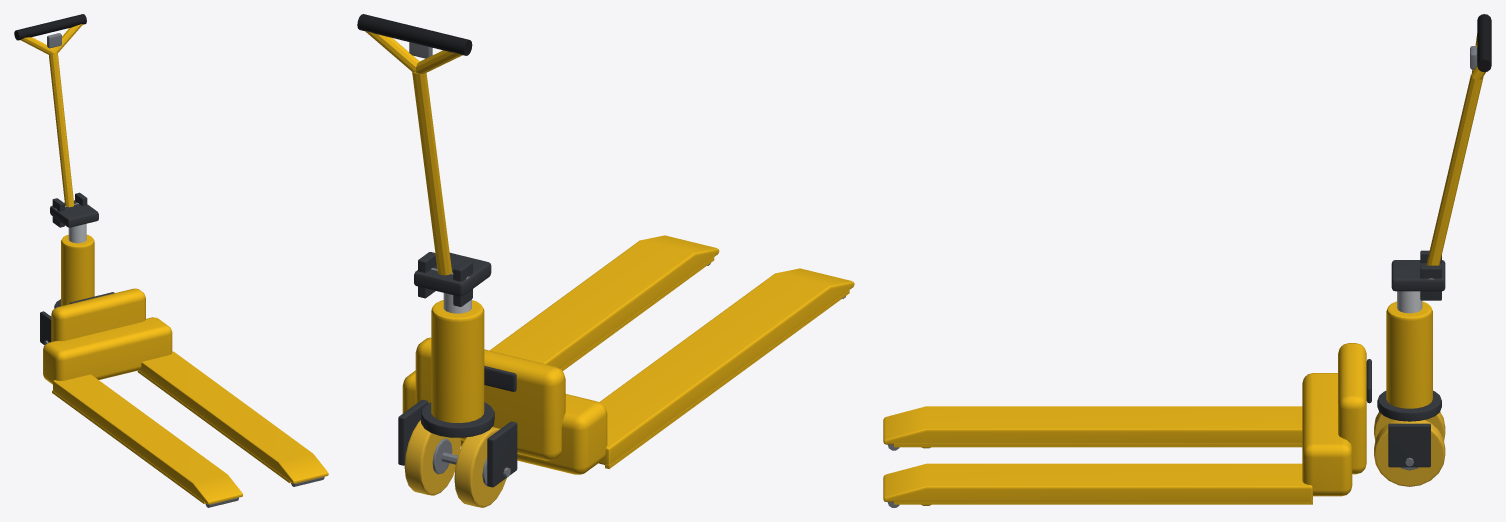
The model's file is pallet_jack.glb.
The picture shows the model from 3 angles, left to right: view 1: azimuth 30°, elevation 25°; view 2: azimuth 150°, elevation 25°; view 3: azimuth 270°, elevation 25°; orthographic projection. The views are drawn at different scales.
Parts seen in each view (by area): view 1: body_geo, tiller_frame_geo, tiller_handle_geo; view 2: body_geo, tiller_frame_geo, tiller_handle_geo, wheel_steer_L_geo, wheel_steer_R_geo; view 3: body_geo, tiller_frame_geo, tiller_handle_geo, wheel_steer_L_geo.
Boxes of the visible parts, left/top/right/bottom form: body_geo: left=43, top=288, right=328, bottom=507; tiller_frame_geo: left=40, top=192, right=98, bottom=345; tiller_handle_geo: left=14, top=14, right=86, bottom=209; body_geo: left=402, top=235, right=854, bottom=474; tiller_frame_geo: left=398, top=252, right=517, bottom=487; tiller_handle_geo: left=357, top=14, right=472, bottom=279; wheel_steer_L_geo: left=404, top=420, right=460, bottom=495; wheel_steer_R_geo: left=454, top=427, right=506, bottom=507; body_geo: left=883, top=343, right=1371, bottom=507; tiller_frame_geo: left=1377, top=250, right=1445, bottom=467; tiller_handle_geo: left=1426, top=14, right=1491, bottom=279; wheel_steer_L_geo: left=1374, top=420, right=1445, bottom=486.
Size of the model in its own units: 0.5399 by 1.35 by 1.7.
